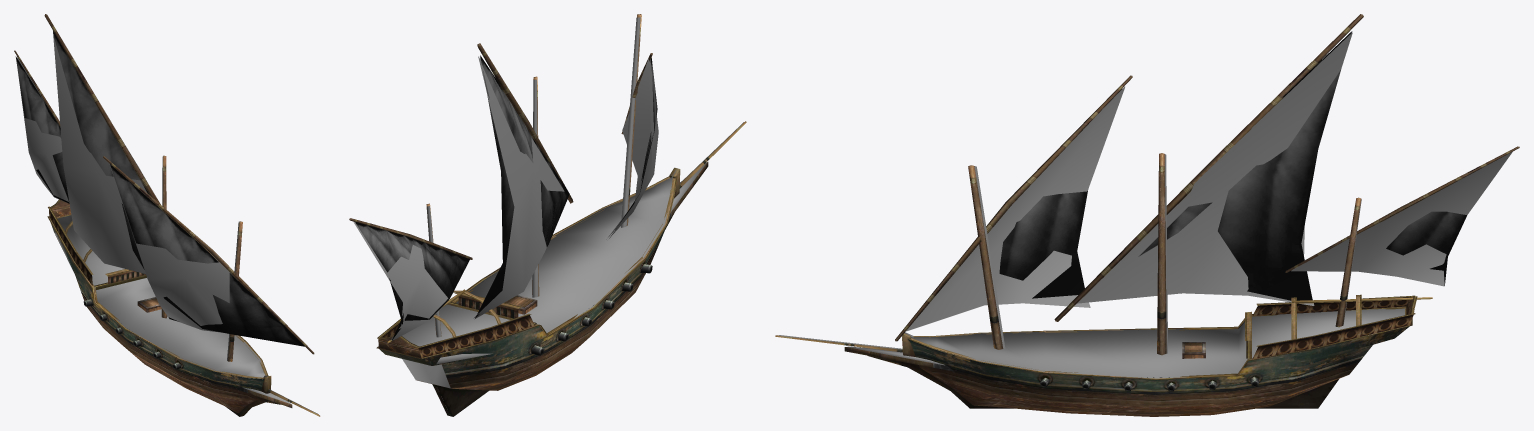
File: F_Ship_02.fbx
3 renders of one model, left to right at view 1: azimuth 30°, elevation 25°; view 2: azimuth 150°, elevation 25°; view 3: azimuth 270°, elevation 25°, orthographic. The views are drawn at different scales.
Visible parts, largest first — view 1: F_Ship_02_FakeShadow, F_Ship_02_Sail, F_Ship_02; view 2: F_Ship_02_FakeShadow, F_Ship_02, F_Ship_02_Sail; view 3: F_Ship_02_FakeShadow, F_Ship_02, F_Ship_02_Sail.
Part boxes in pixels (x1,y1,x2,y2): F_Ship_02_FakeShadow: (17, 32, 318, 414); F_Ship_02_Sail: (15, 31, 304, 346); F_Ship_02: (14, 14, 320, 416); F_Ship_02_FakeShadow: (353, 17, 743, 409); F_Ship_02: (349, 14, 746, 416); F_Ship_02_Sail: (355, 55, 657, 341); F_Ship_02_FakeShadow: (779, 32, 1512, 378); F_Ship_02: (775, 14, 1519, 416); F_Ship_02_Sail: (999, 31, 1466, 300).
Size of the model in its own units: 0.2185 by 0.5262 by 0.9597.
3 materials, 2 textured.
